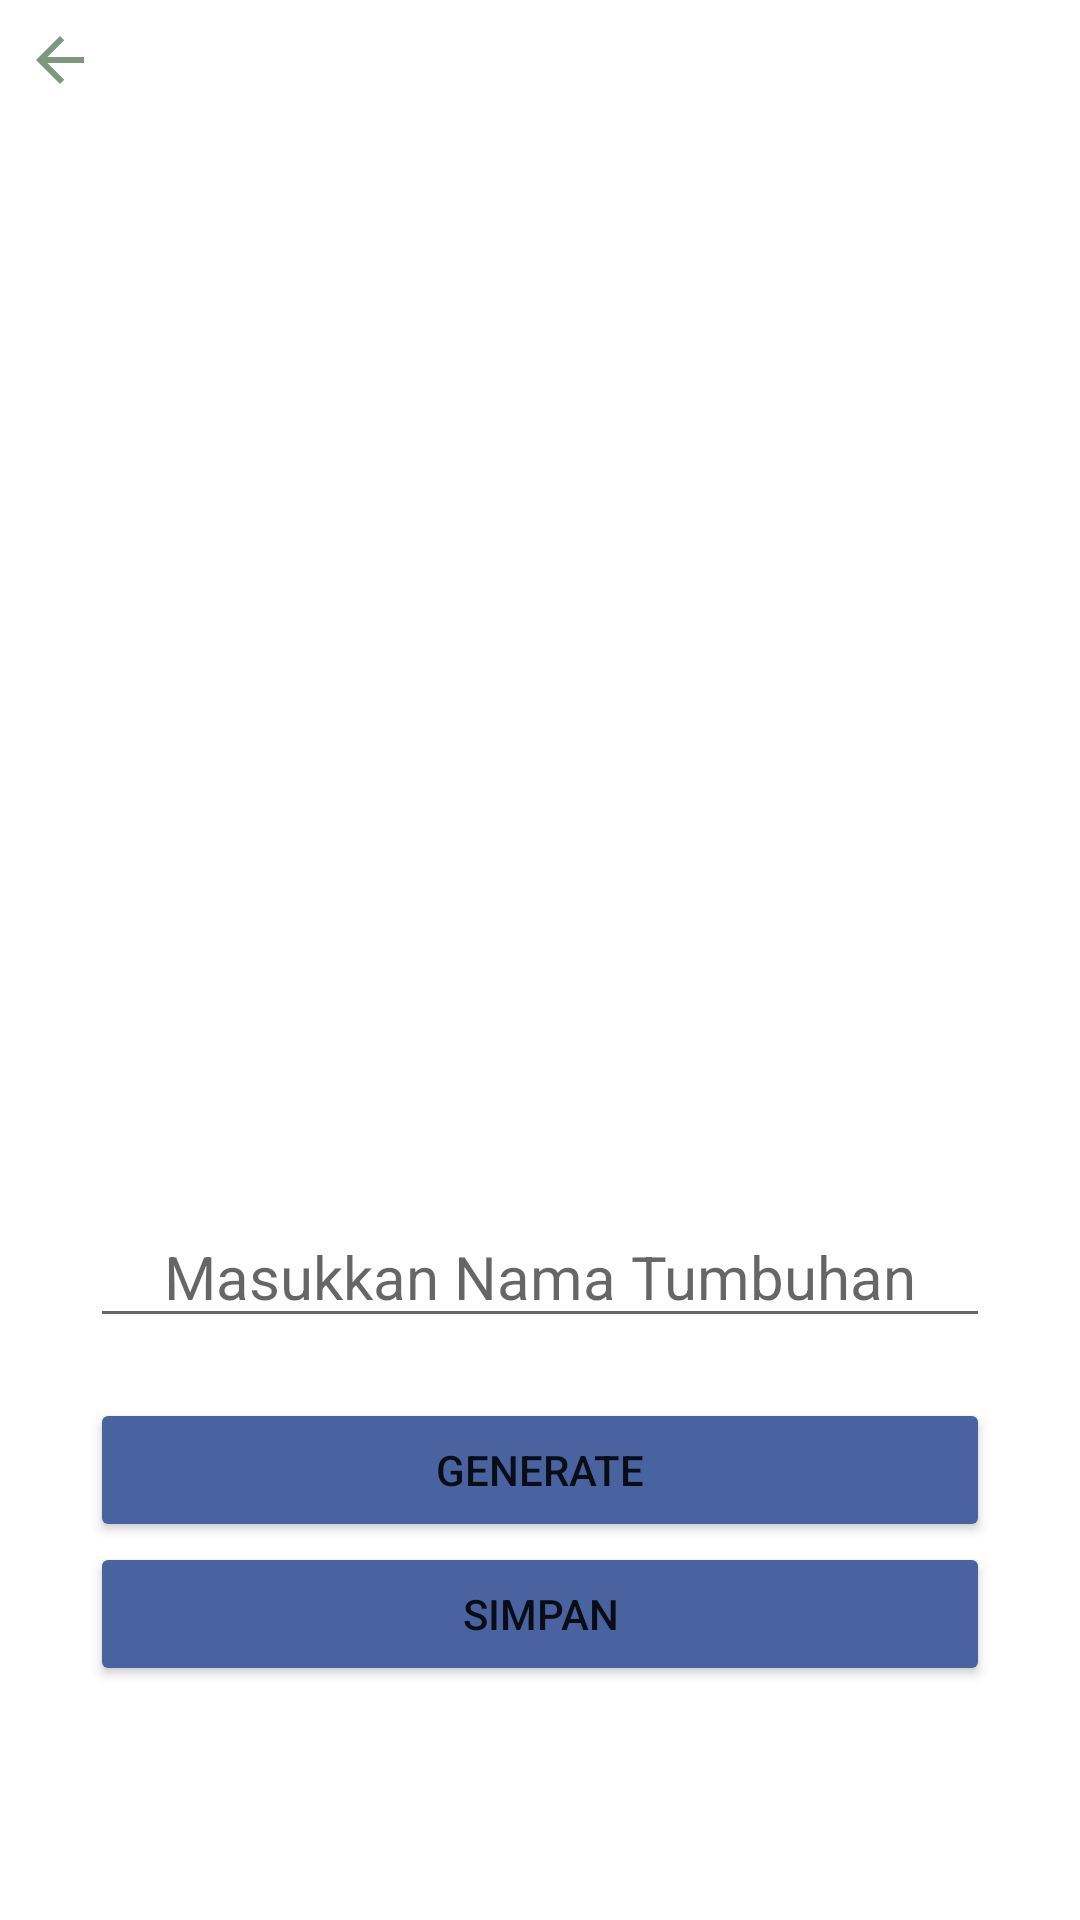

Icons on this 1080px×1920px Android screen, each with the point to tap as (x,y):
back: (60,60)
